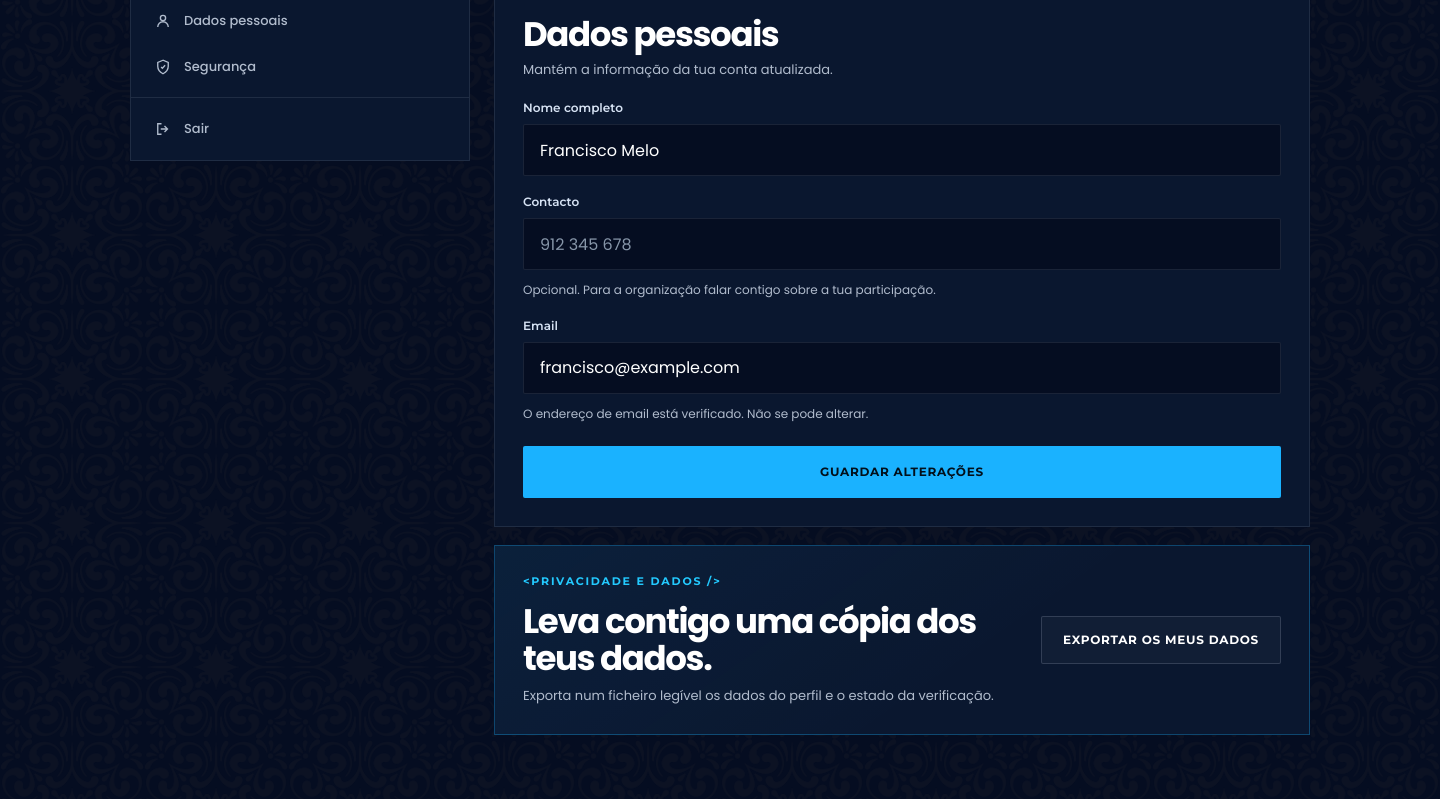
it: dados pessoais: só o nome se guarda, e pela API › se a API recusa, mostra o erro e não diz que guardou
(page scrolled)
Click the button "Guardar alterações": (902, 472) top-left (523, 446), bottom-right (1281, 498)
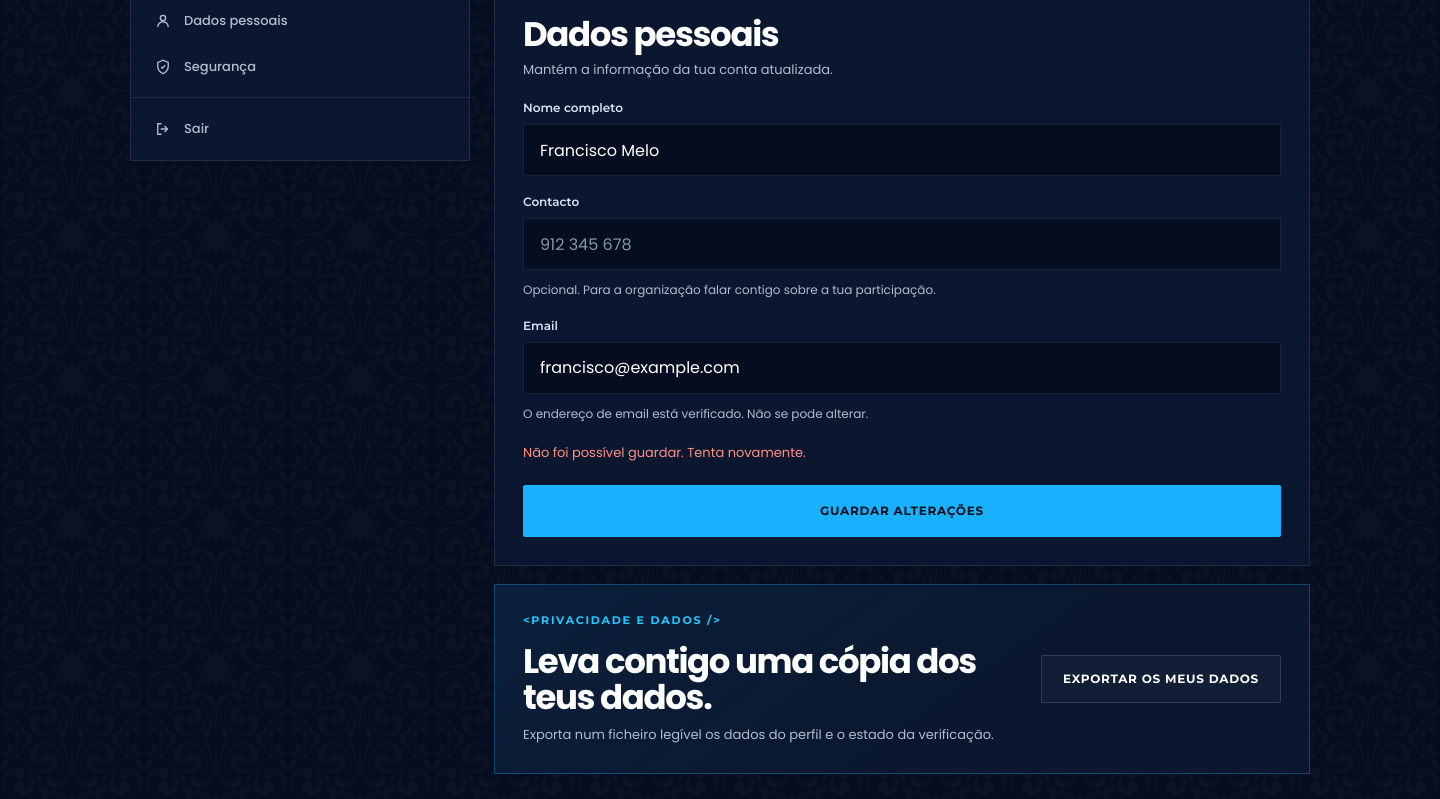
Expected: the message shows "Não foi possível guardar", top-left (523, 443), bottom-right (806, 462)
